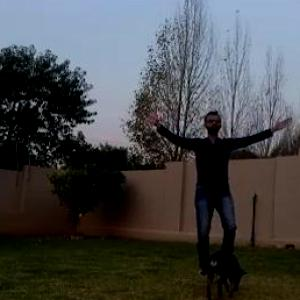takeoff: (157, 90, 299, 298)
